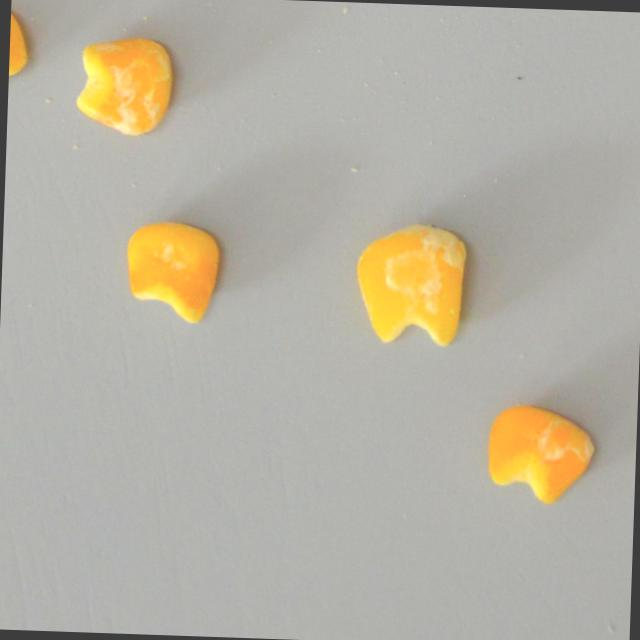no_canjicado: (123, 221, 220, 322), (7, 4, 29, 109)
pelicula: (354, 219, 467, 345), (484, 398, 597, 508), (74, 33, 174, 136)
